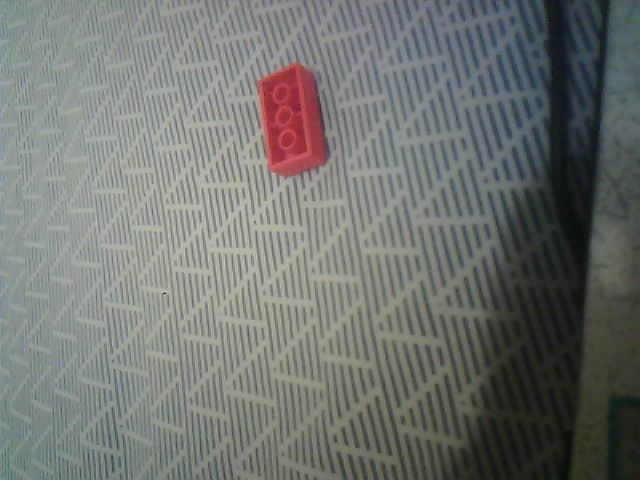lego: (257, 62, 328, 176)
